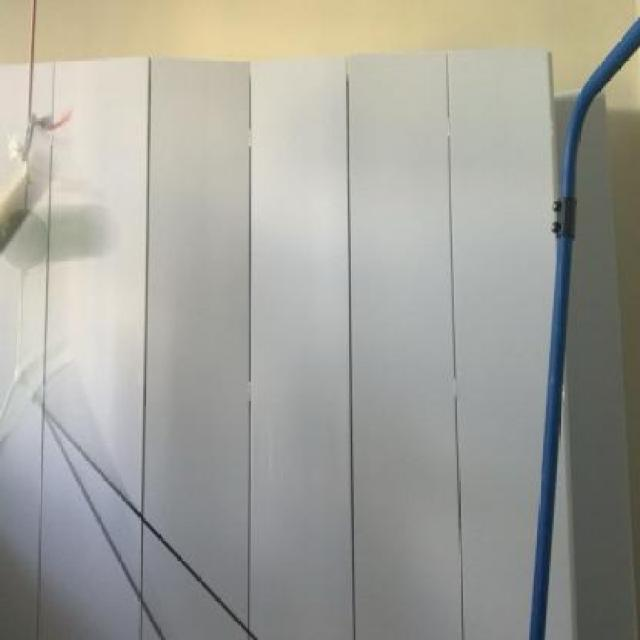baseball: (3, 202, 102, 280)
